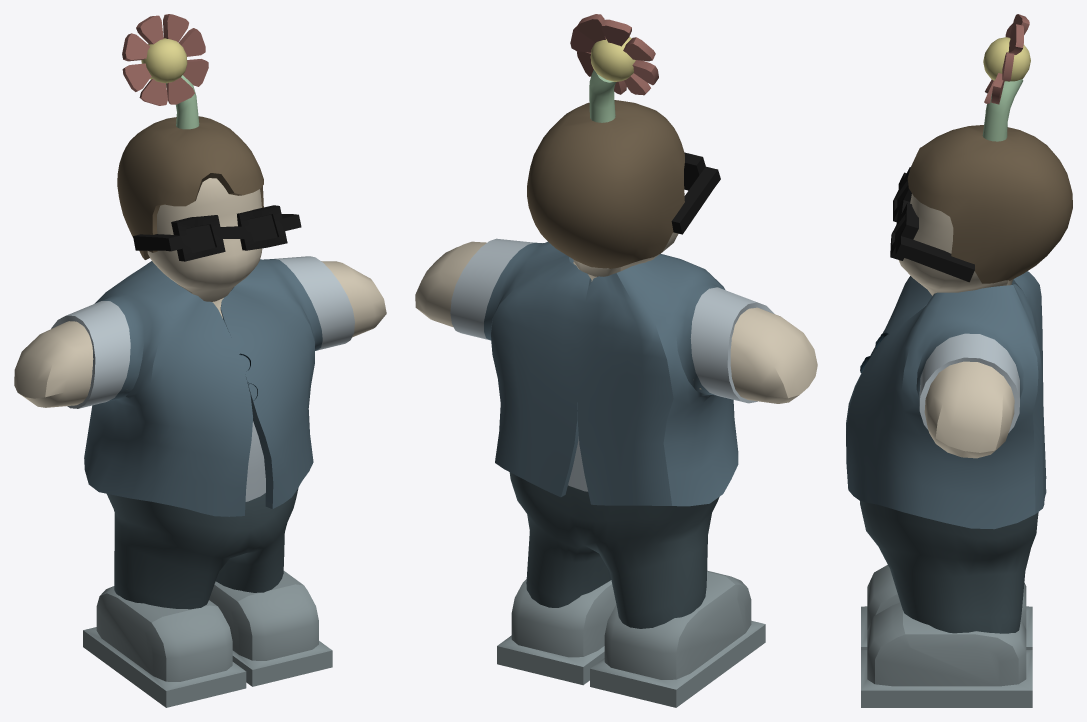
The model's file is BotanMesh.fbx.
3 renders of one model, left to right at view 1: azimuth 30°, elevation 25°; view 2: azimuth 150°, elevation 25°; view 3: azimuth 270°, elevation 25°, orthographic. The views are drawn at different scales.
Parts seen in each view (by area): view 1: Cube.047, Cube.049, Cube.046, Cube.053, Cube.050, Cube.054, Cube.051, Plane.017, Cube.056, Cube.055, Cube.057, Cube.052; view 2: Cube.047, Cube.050, Cube.049, Cube.053, Cube.046, Cube.051, Cube.054, Cube.056, Plane.017, Cube.055, Cube.052; view 3: Cube.047, Cube.050, Cube.049, Cube.054, Cube.046, Cube.051, Plane.017, Cube.053, Cube.056, Cube.052, Cube.055.
Part boxes in pixels (left/top/right/bottom): Cube.047: left=84, top=259, right=322, bottom=516; Cube.049: left=107, top=488, right=298, bottom=609; Cube.046: left=14, top=178, right=386, bottom=407; Cube.053: left=83, top=586, right=246, bottom=707; Cube.050: left=117, top=116, right=263, bottom=259; Cube.054: left=209, top=571, right=332, bottom=686; Cube.051: left=51, top=256, right=354, bottom=408; Plane.017: left=133, top=205, right=301, bottom=261; Cube.056: left=122, top=14, right=208, bottom=105; Cube.055: left=141, top=38, right=187, bottom=83; Cube.057: left=245, top=421, right=265, bottom=501; Cube.052: left=166, top=75, right=199, bottom=129; Cube.047: left=484, top=241, right=738, bottom=506; Cube.050: left=527, top=100, right=684, bottom=268; Cube.049: left=509, top=472, right=719, bottom=628; Cube.053: left=590, top=570, right=765, bottom=707; Cube.046: left=415, top=232, right=817, bottom=403; Cube.051: left=450, top=238, right=774, bottom=403; Cube.054: left=497, top=579, right=616, bottom=685; Cube.056: left=570, top=14, right=658, bottom=95; Plane.017: left=671, top=152, right=720, bottom=234; Cube.055: left=590, top=37, right=635, bottom=81; Cube.052: left=589, top=70, right=616, bottom=122; Cube.047: left=846, top=271, right=1046, bottom=529; Cube.050: left=907, top=125, right=1072, bottom=283; Cube.049: left=860, top=501, right=1038, bottom=633; Cube.054: left=861, top=602, right=1032, bottom=707; Cube.046: left=898, top=194, right=1014, bottom=458; Cube.051: left=919, top=333, right=1019, bottom=432; Plane.017: left=890, top=167, right=974, bottom=282; Cube.053: left=861, top=565, right=1032, bottom=649; Cube.056: left=984, top=14, right=1029, bottom=104; Cube.052: left=982, top=79, right=1023, bottom=141; Cube.055: left=983, top=37, right=1030, bottom=81.
Size of the model in its own units: 161 by 269 by 86.62.
